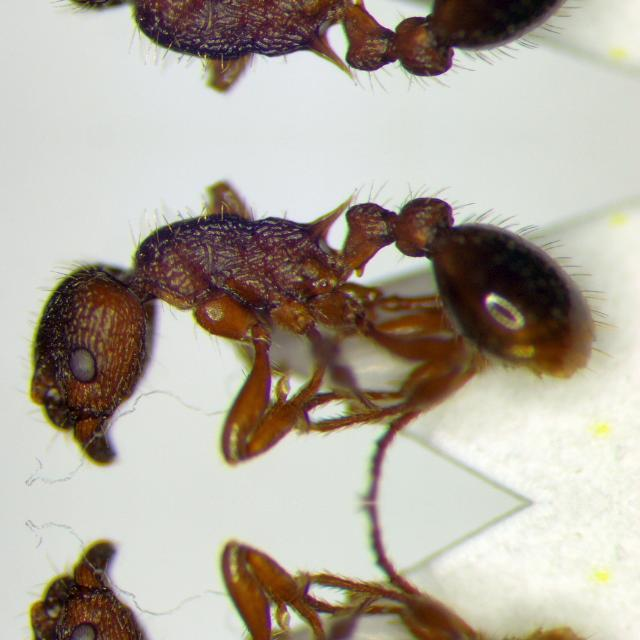Myrmica: (17, 162, 599, 482), (17, 522, 599, 640), (17, 0, 599, 110)
